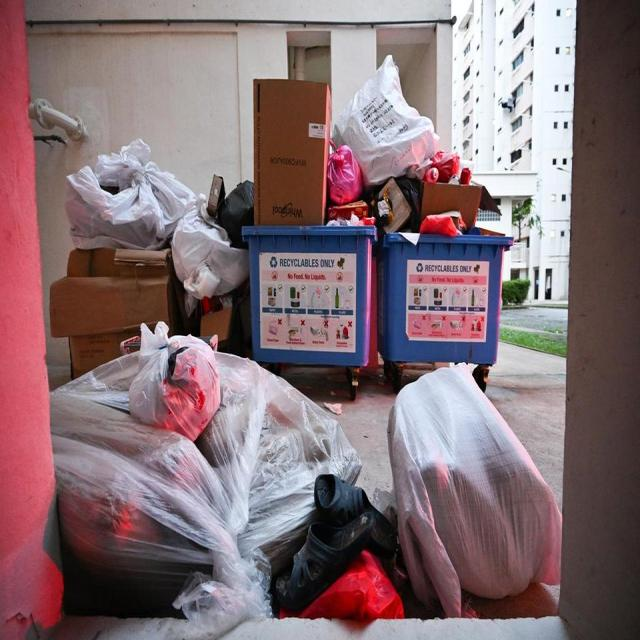bin_full: (242, 100, 368, 396), (376, 156, 498, 390)
bulk_waste: (49, 245, 178, 377), (253, 76, 331, 223), (417, 180, 483, 233), (198, 297, 232, 342)
normal_waste: (50, 386, 248, 615), (390, 362, 560, 612), (226, 356, 360, 571), (63, 139, 196, 253), (330, 52, 438, 188), (278, 548, 402, 621), (172, 199, 246, 304), (172, 555, 264, 634), (374, 173, 420, 233), (327, 141, 362, 205), (424, 149, 462, 183), (323, 212, 370, 227)
